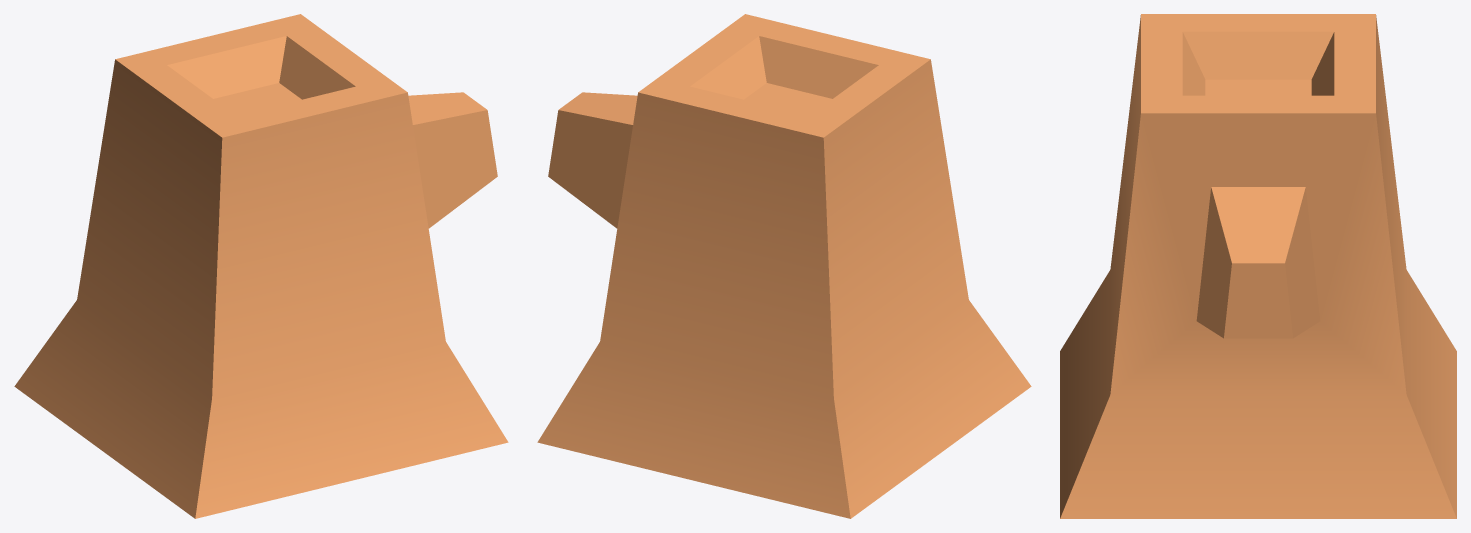
The model's file is treeStump_side.fbx.
3 views of the same model, side by side, from view 1: azimuth 30°, elevation 25°; view 2: azimuth 150°, elevation 25°; view 3: azimuth 270°, elevation 25° (orthographic). The views are drawn at different scales.
Parts seen in each view (by area): view 1: treeStump_side; view 2: treeStump_side; view 3: treeStump_side.
Boxes of the visible parts, x1,y1,x2,y2 form: treeStump_side: (14,14,508,518); treeStump_side: (537,14,1031,518); treeStump_side: (1060,14,1456,518).
Size of the model in its own units: 3.39 by 2.91 by 2.81.
